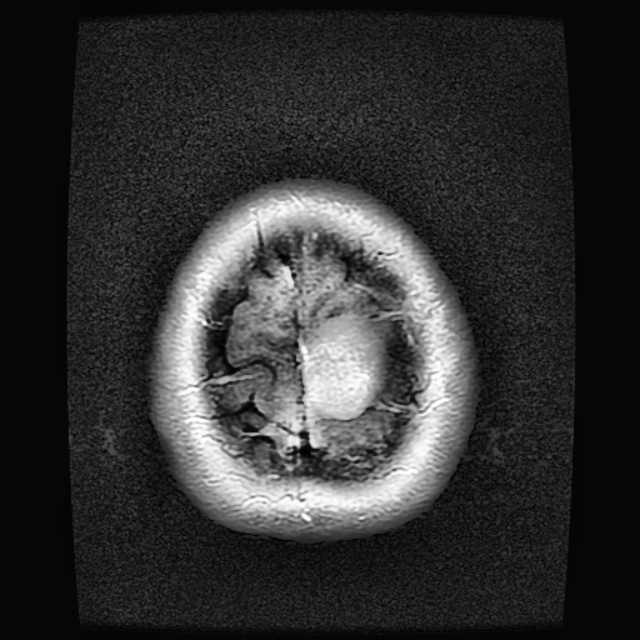Pituitary: (300, 317, 384, 415)
